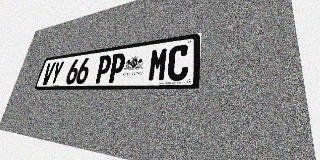6: (75, 57, 92, 84), (65, 59, 81, 84)
C: (166, 44, 190, 81)
M: (147, 47, 169, 82)
P: (107, 53, 126, 83), (94, 54, 113, 83)
V: (41, 62, 56, 85)
Y: (49, 61, 65, 85)
